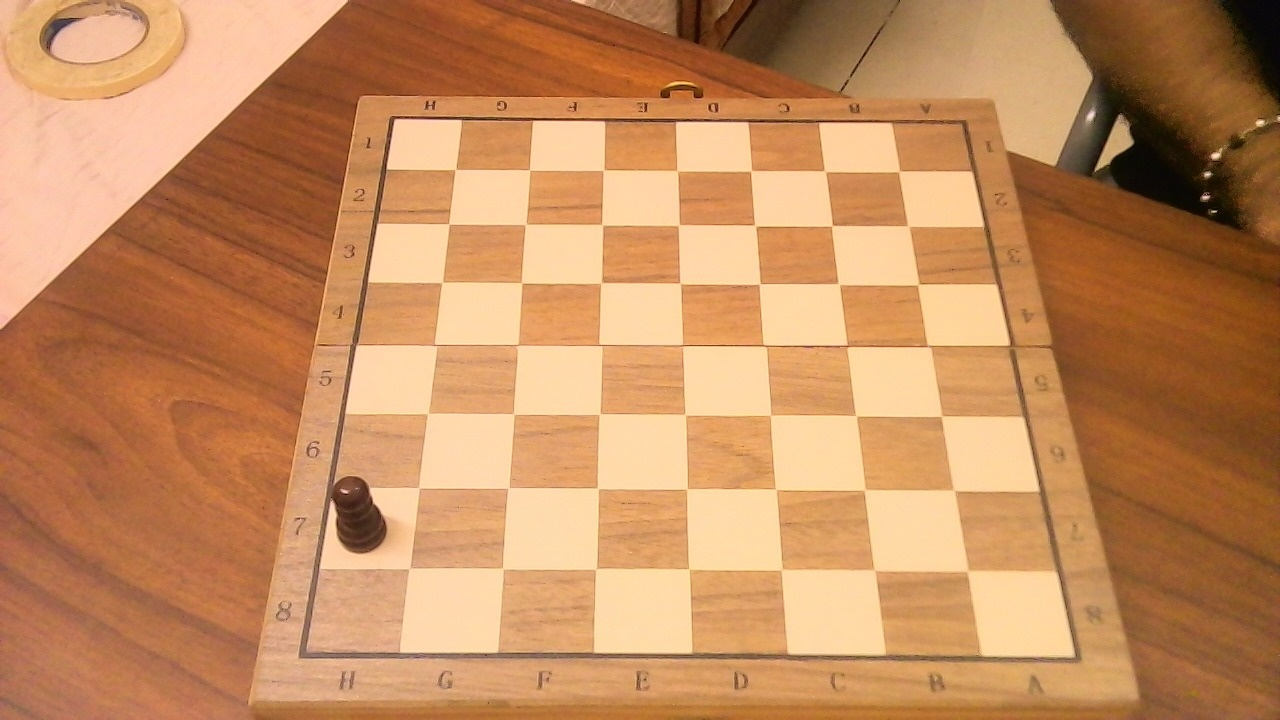p: (326, 463, 396, 557)
